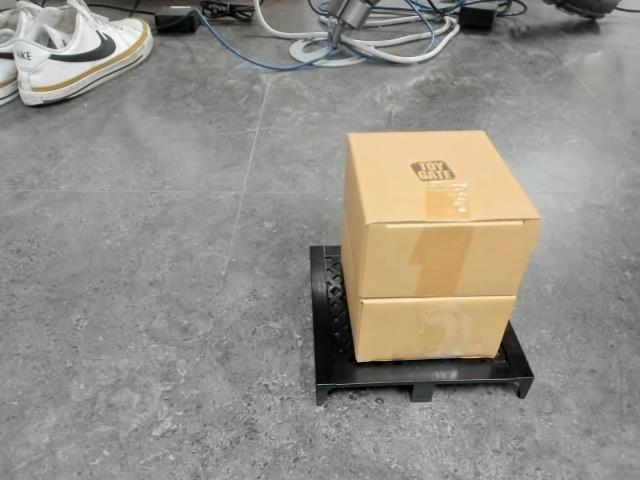box: (307, 127, 544, 405)
